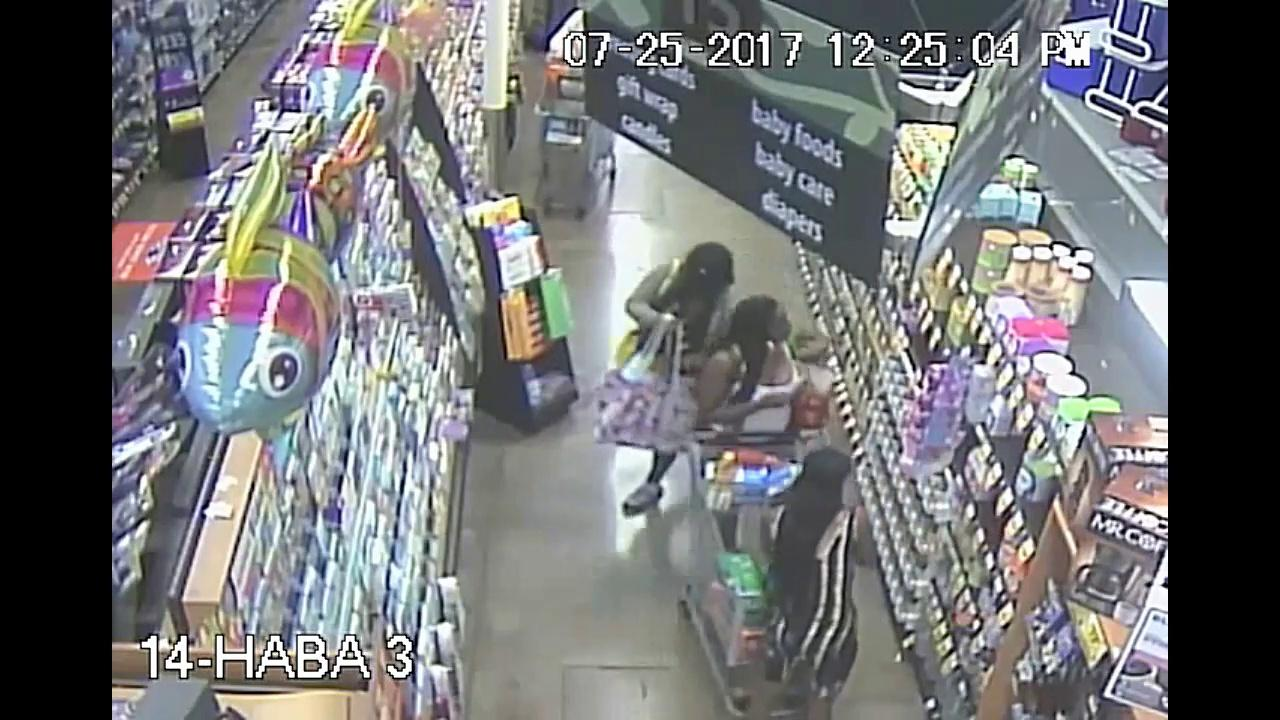3: (703, 286, 853, 449), (586, 189, 745, 306)
4: (763, 443, 896, 715)
5: (693, 441, 791, 506)
persone: (594, 307, 687, 456), (793, 374, 835, 430)
